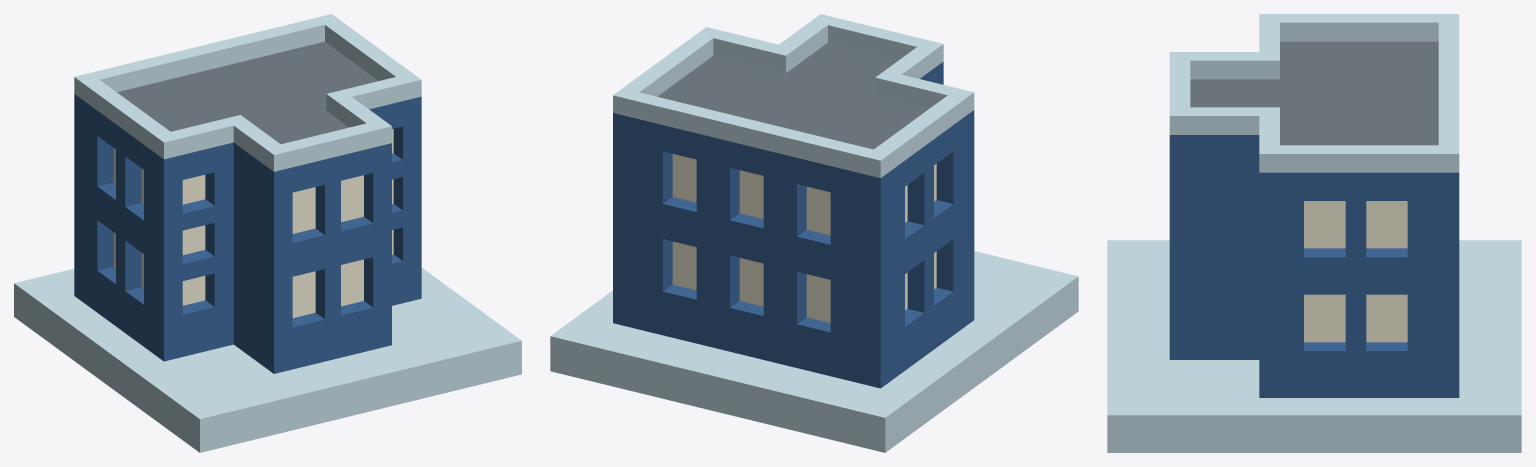
The model's file is Building_12_Base (Blue).obj.
3 views of the same model, side by side, from view 1: azimuth 30°, elevation 25°; view 2: azimuth 150°, elevation 25°; view 3: azimuth 270°, elevation 25° (orthographic). The views are drawn at different scales.
Visible parts, largest first — view 1: Building_12_Base_(Blue); view 2: Building_12_Base_(Blue); view 3: Building_12_Base_(Blue).
Boxes of the visible parts, x1=… form: Building_12_Base_(Blue): x1=14, y1=14, x2=521, y2=452; Building_12_Base_(Blue): x1=550, y1=14, x2=1078, y2=452; Building_12_Base_(Blue): x1=1107, y1=14, x2=1521, y2=452.
Bounding box in the file's own units: 2 × 1.5 × 2.
